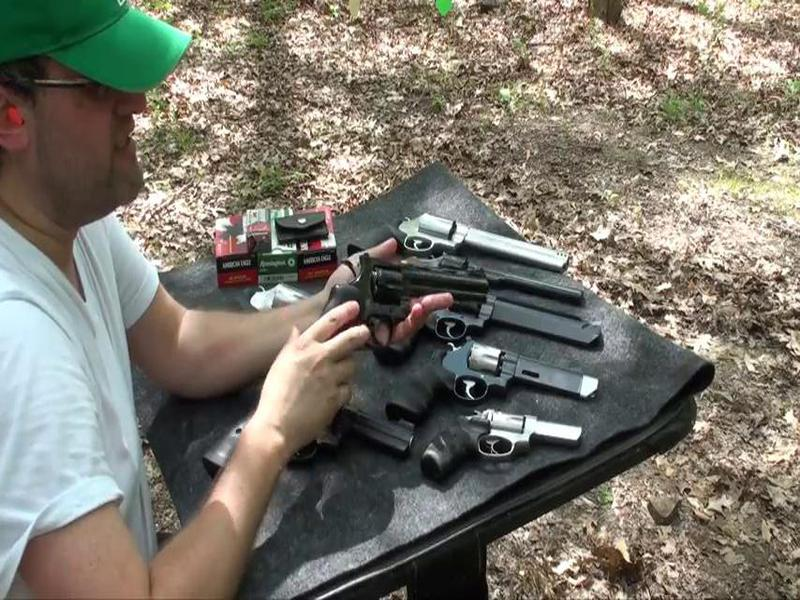Revolver: (294, 258, 485, 388)
